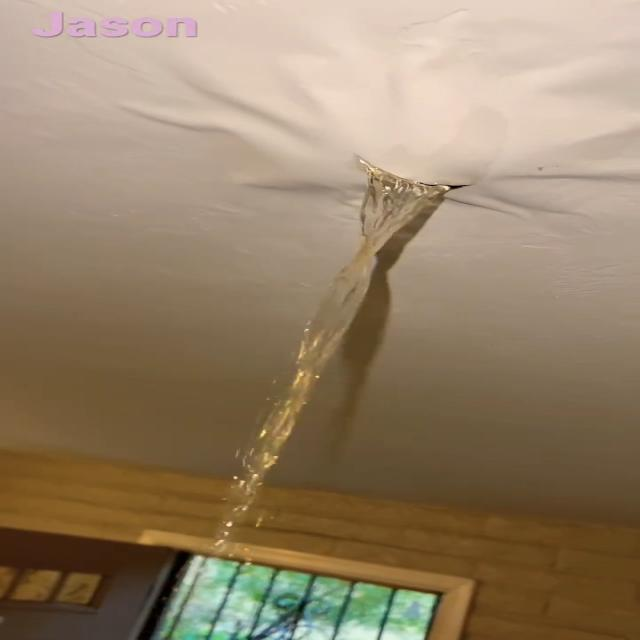wall_corrosion: (216, 158, 461, 543)
